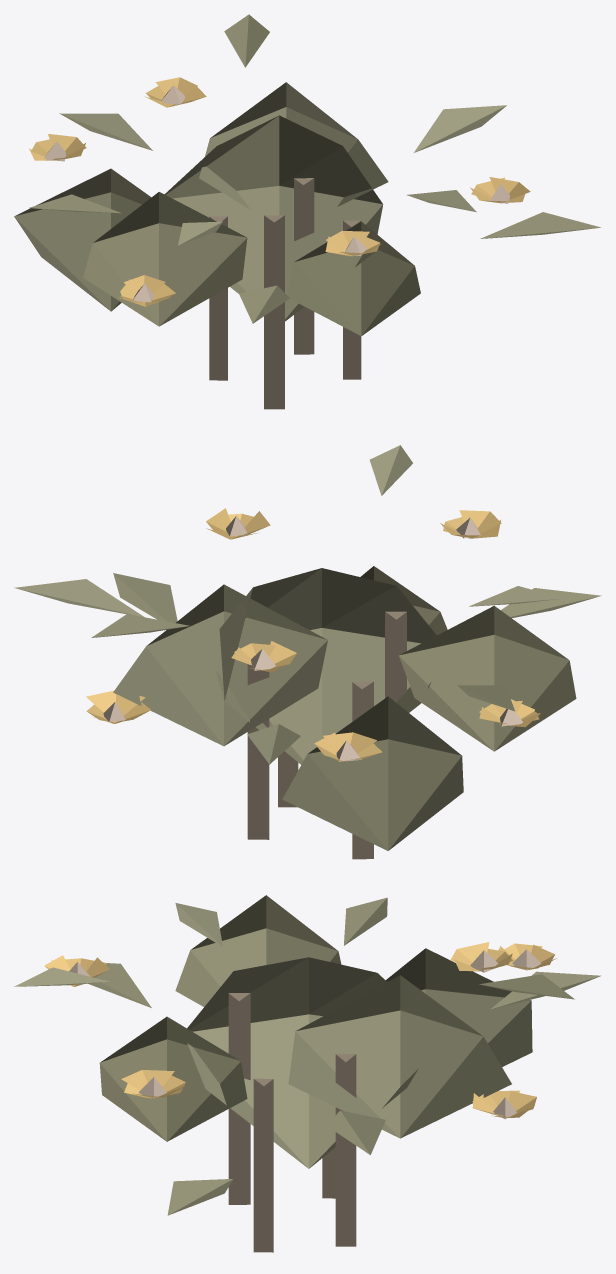
The model's file is guan.lianqiao__winter.glb.
3 views of the same model, one above another, from view 1: azimuth 30°, elevation 25°; view 2: azimuth 150°, elevation 25°; view 3: azimuth 270°, elevation 25° (orthographic). The views are drawn at different scales.
Visible parts, largest first — view 1: guan.lianqiao__winter; view 2: guan.lianqiao__winter; view 3: guan.lianqiao__winter.
Boxes of the visible parts, x1,y1,x2,y2 form: guan.lianqiao__winter: (14, 14, 600, 409); guan.lianqiao__winter: (14, 445, 601, 859); guan.lianqiao__winter: (14, 895, 601, 1252).
Bounding box in the file's own units: 3.08 × 1.6 × 3.03.
